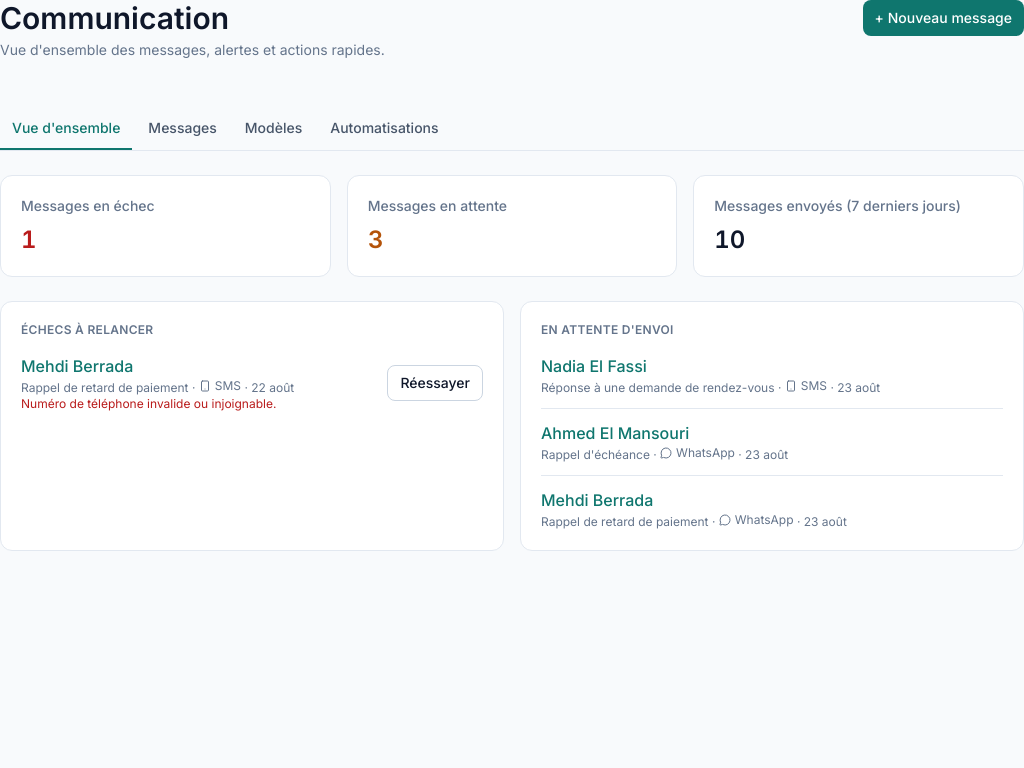
Scenario: CommunicationDashboard › rejects sending without a selected patient
The image size is (1024, 768).
Click the button "+ Nouveau message": (943,18) [863, 0, 1023, 36]
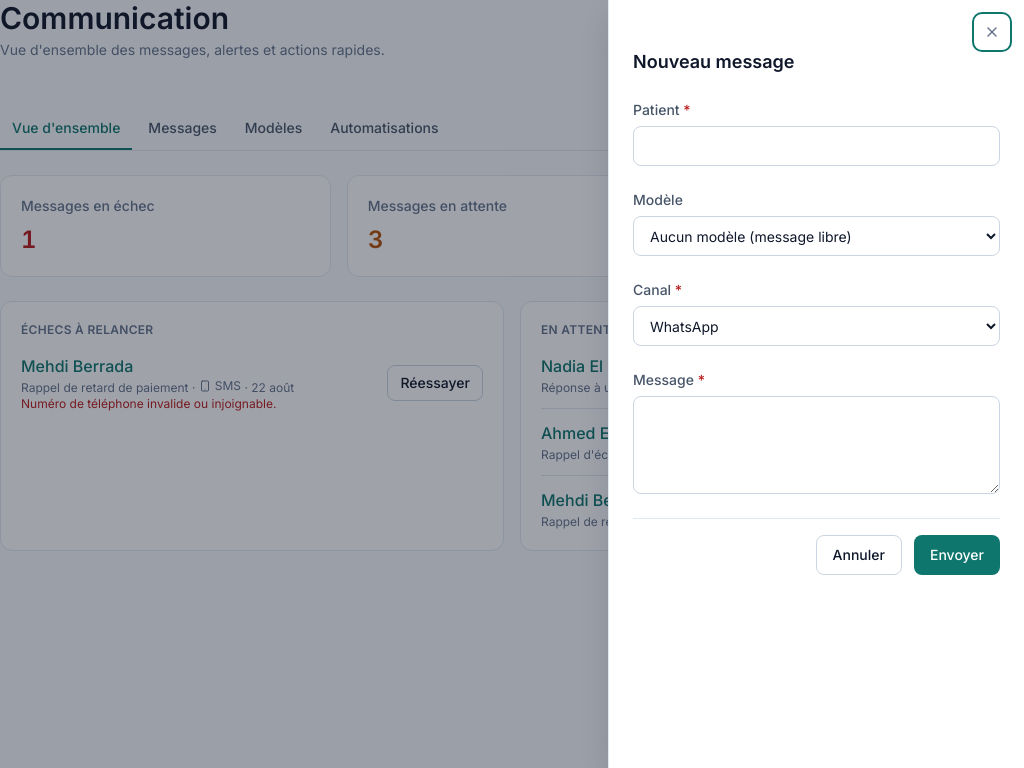
In the text box labelled "Message *": (816,445) [633, 396, 1000, 494], type "Bonjour"
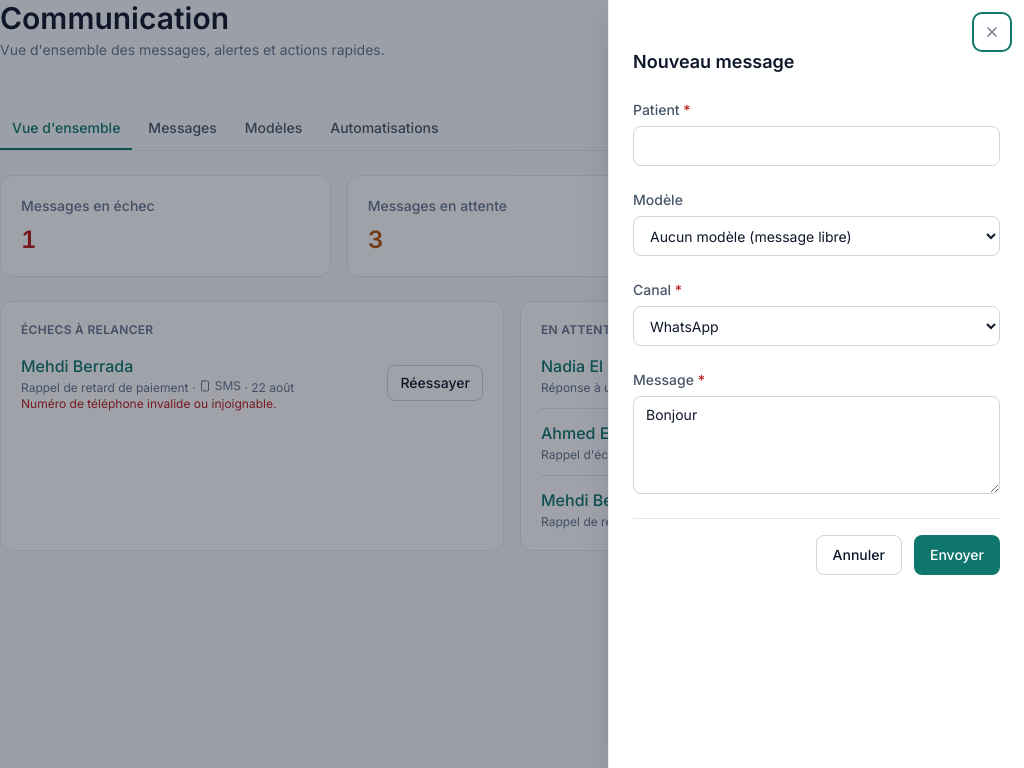
Click the button "Envoyer": (957,555) [914, 535, 1000, 575]
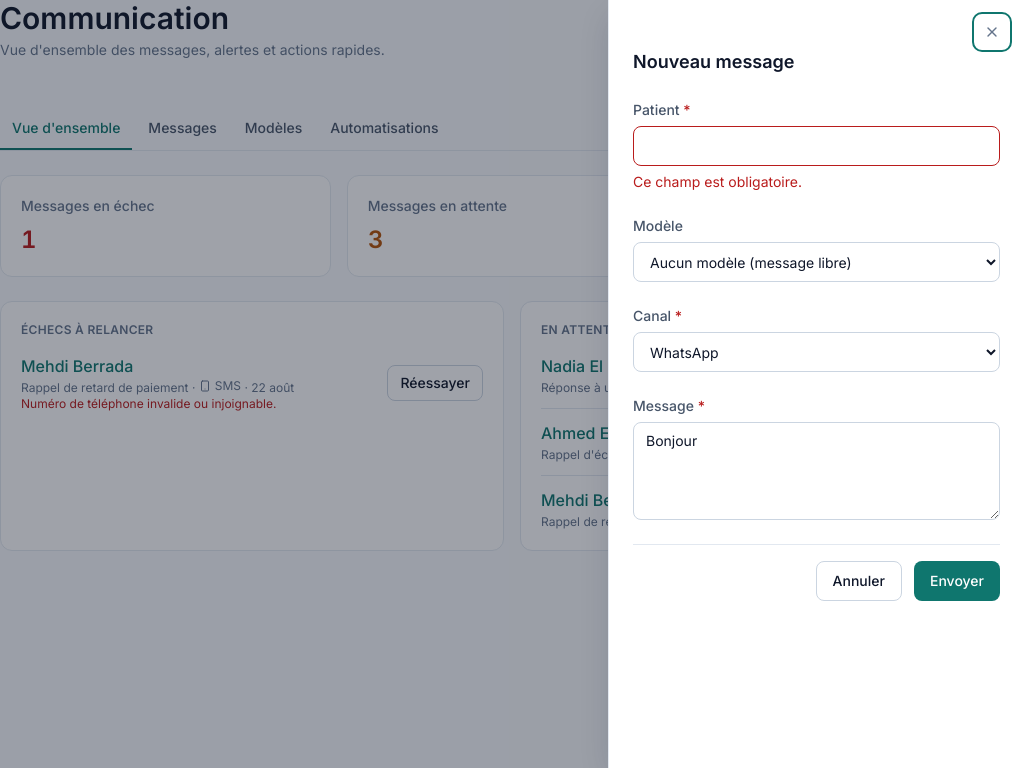
Result: the dialog is shown at [608, 0, 1023, 767]
Result: the text "Ce champ est obligatoire." is shown at [633, 173, 802, 190]
